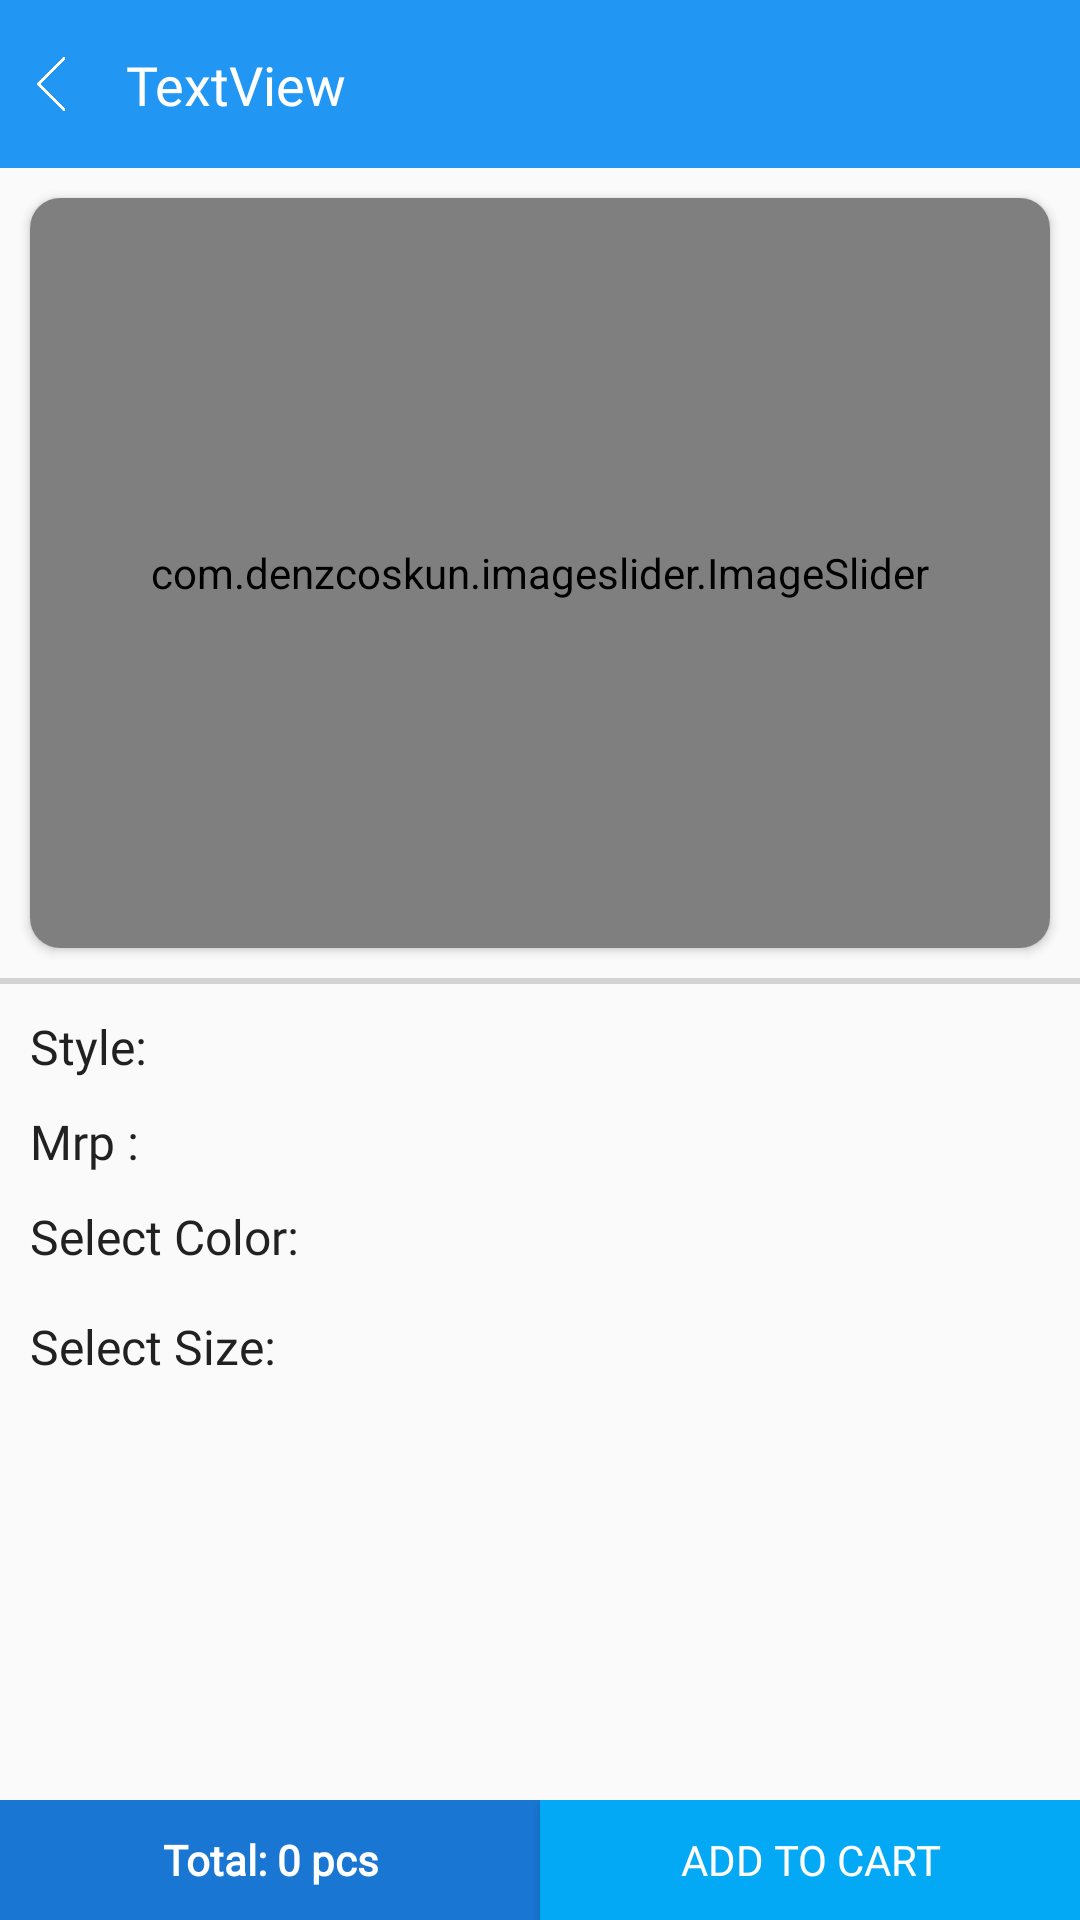

Screen size 1080 x 1920. Icon name, then its box in pixels as {"x1": x1, "y1": y1, "x2": x2, "y2": y2}:
back: {"x1": 37, "y1": 57, "x2": 65, "y2": 111}
